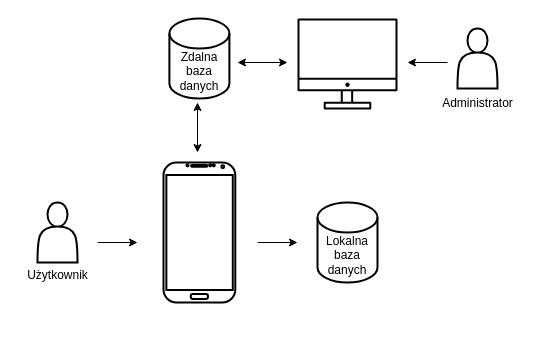
This 539x340 diagram has some shape labels left out. Each missing label, with the centre of its shape:
Aplikacja mobilna: [199,232]
Panel administratora: [347,63]
